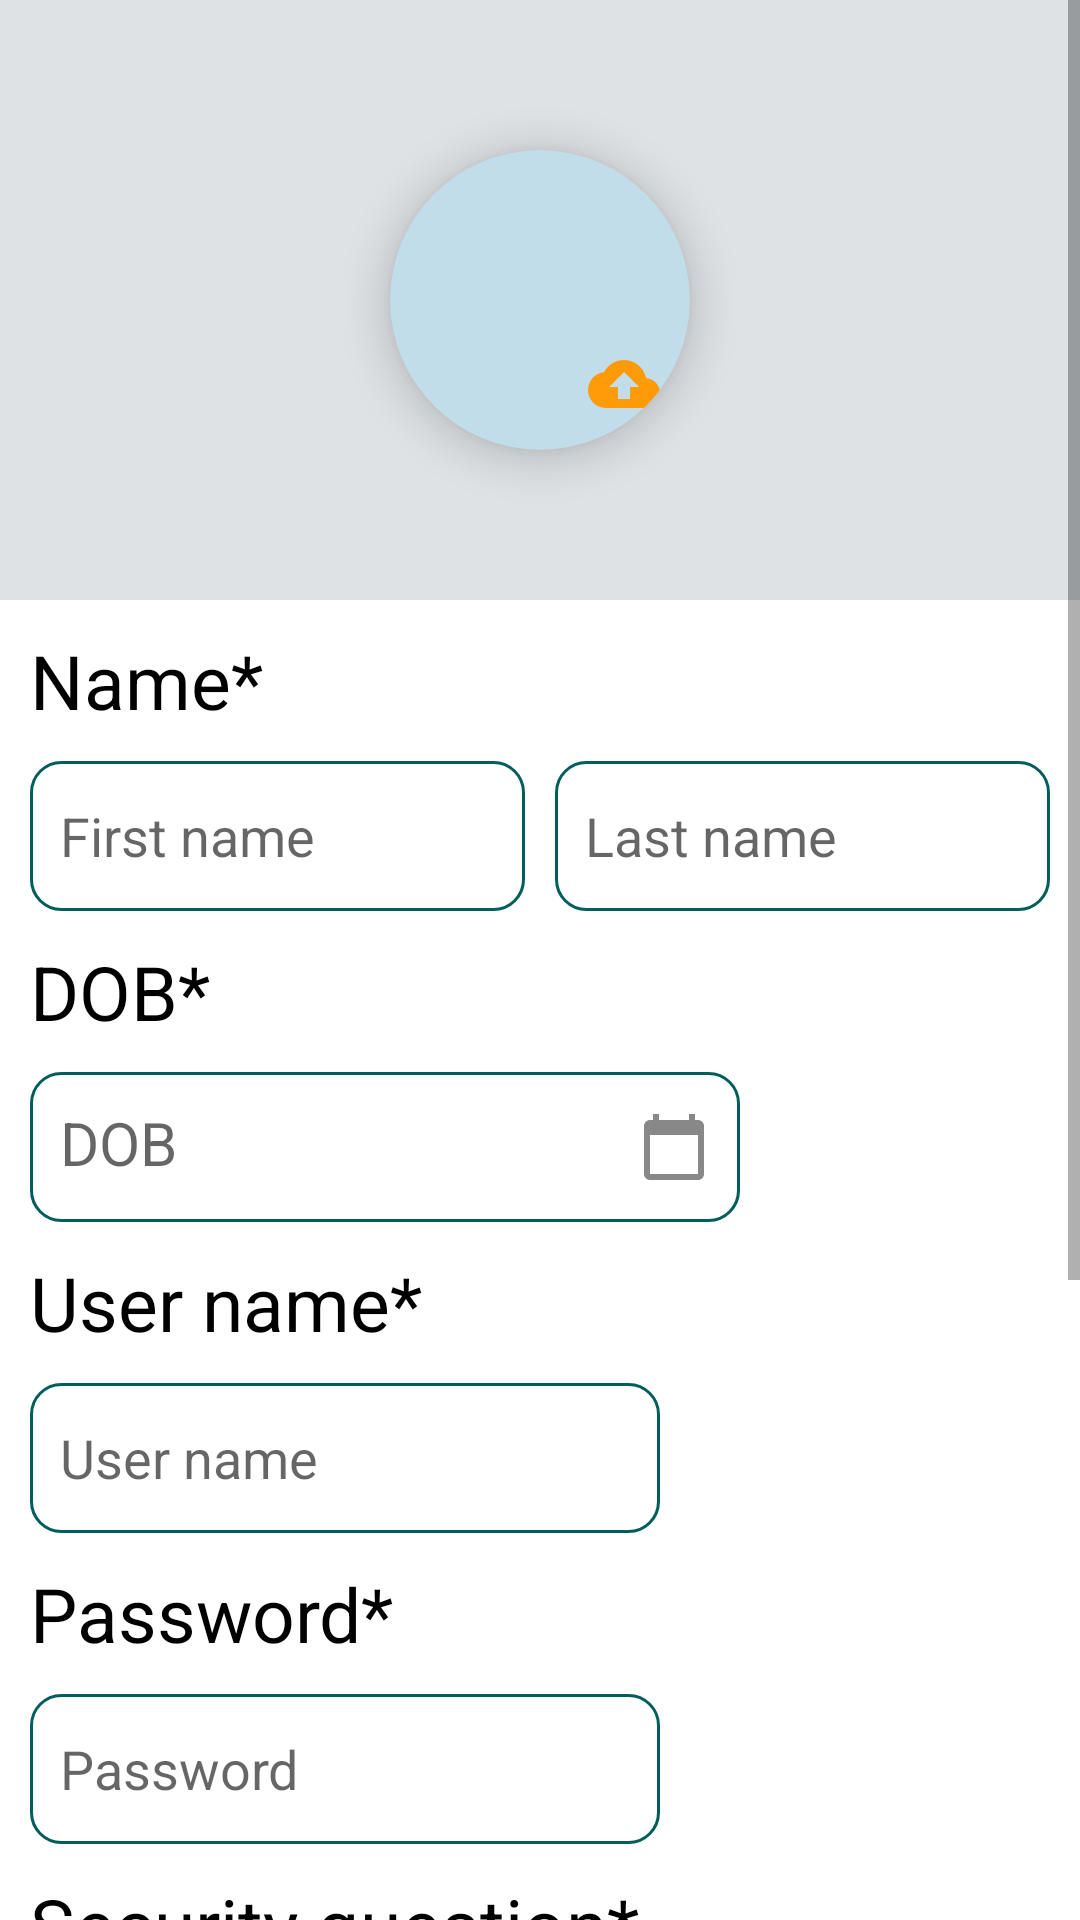

Screen size 1080*1920. Icon name, then its box in pixels as (x1, y1, x2, y2):
cloud upload: (588, 360, 660, 420)
